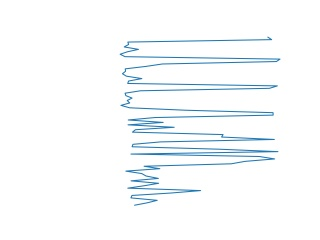crevasseRiverChannelBar: (121, 160, 272, 206)
majorRiverBedLagDeposit: (122, 120, 280, 165)
majorRiverChannelBar: (114, 33, 282, 117)
